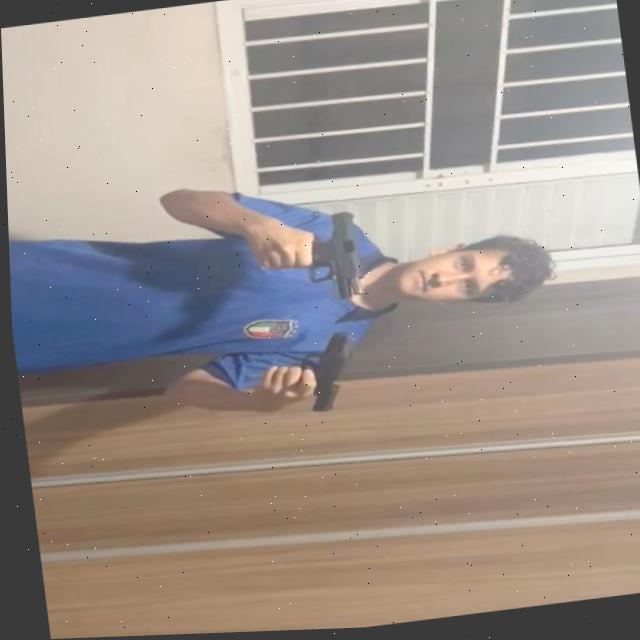gun: (296, 210, 362, 306), (296, 328, 362, 418)
